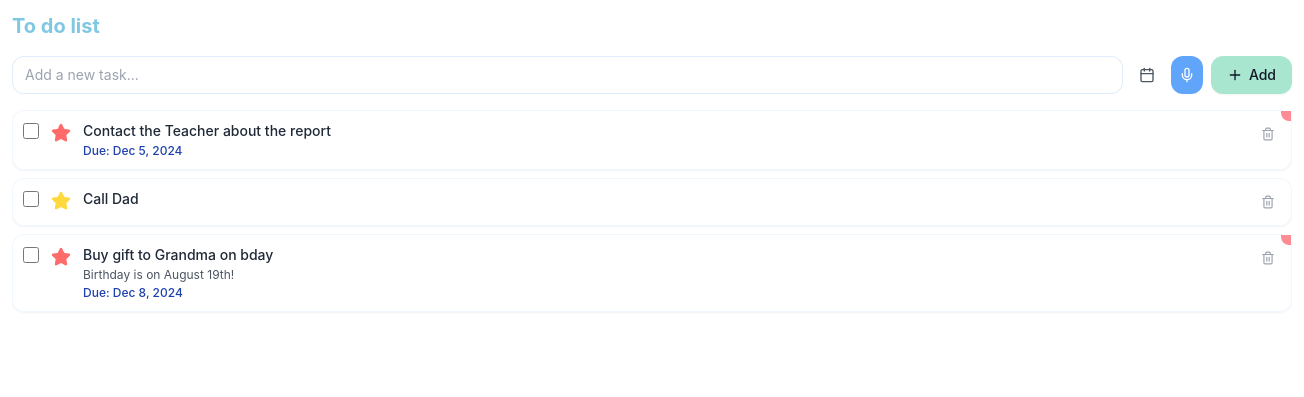
Test: TodoList Component › should add task with selected due date
This screenshot has width=1304, height=397.
# Open date picker and select date
Click the button titled "Add due date".
click(1147, 75)  # box [1131,56,1163,94]
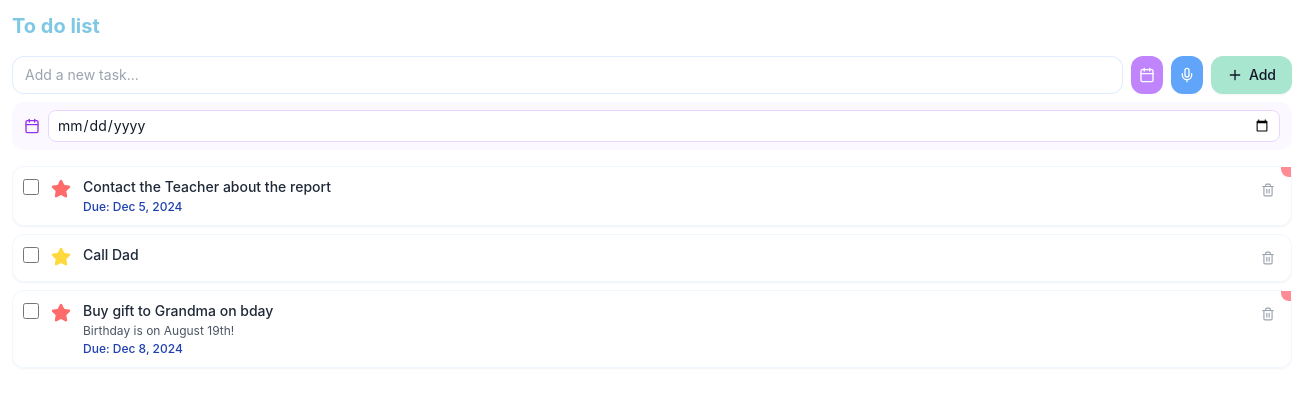
Type "2025-12-25" into the date field.
click(664, 126); type("2025-12-25")  # box [48,110,1280,142]
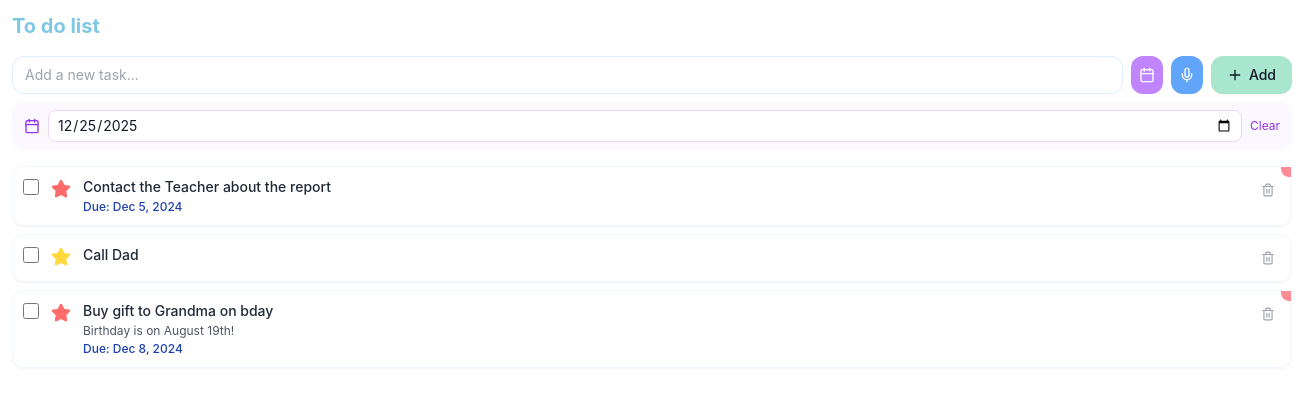
# Add task
Type "Christmas task" into the field with placeholder "Add a new task...".
click(567, 75); type("Christmas task")  # box [12,56,1123,94]
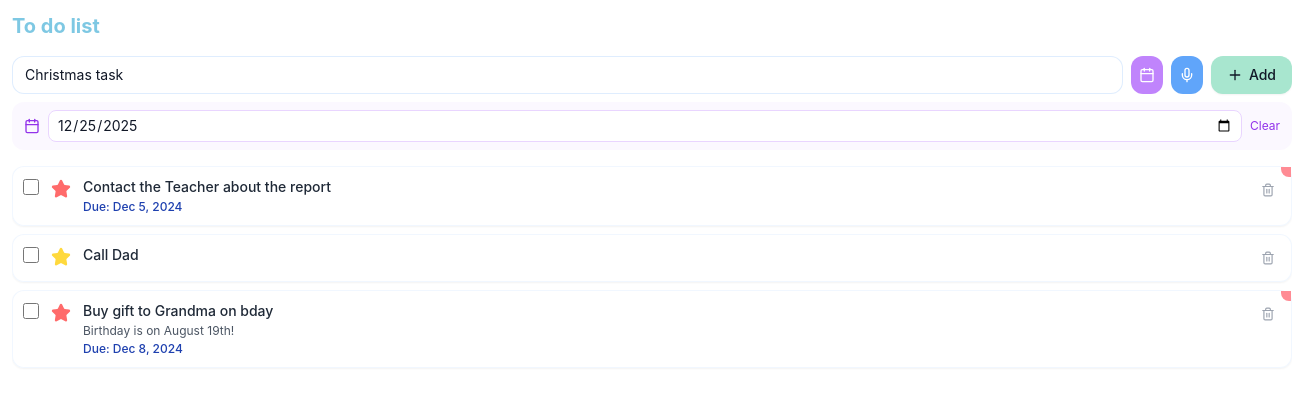
Click the button "Add".
click(1251, 75)  # box [1211,56,1292,94]
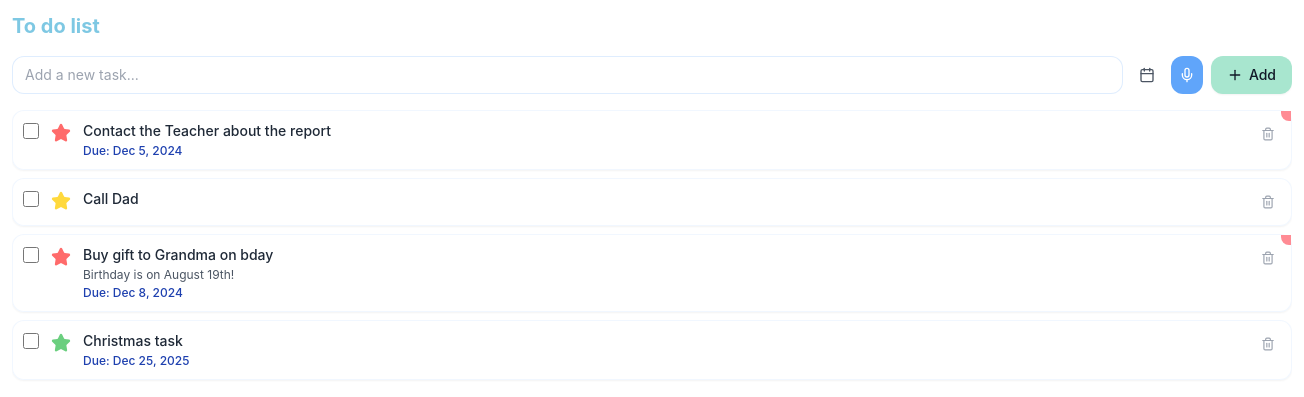
expect the heading "Christmas task" is shown: met, box [83,332,183,349]
